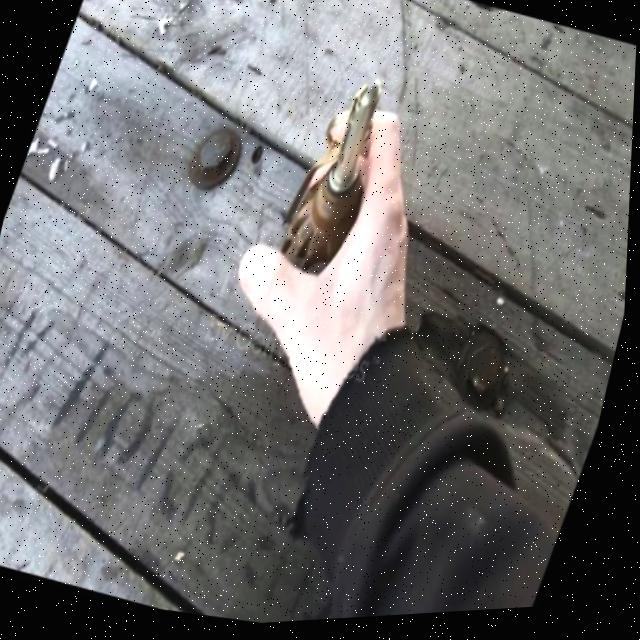grenade: (272, 55, 411, 289)
